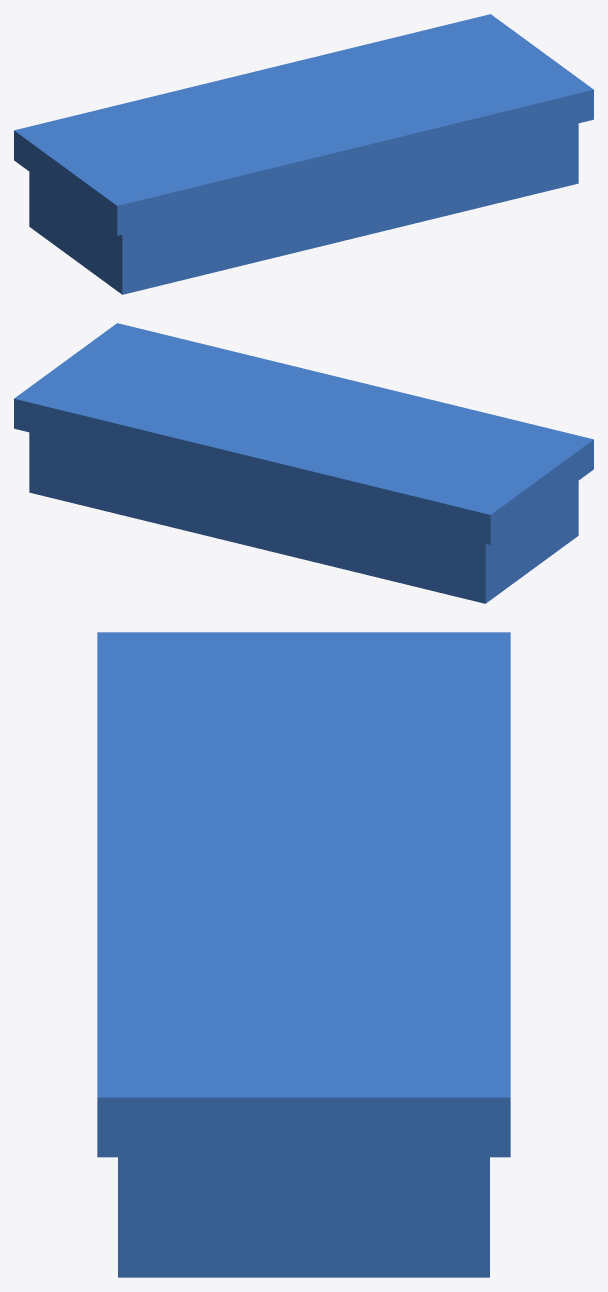
Rendered from yamebox.fbx.
3 renders of one model, top to bottom at view 1: azimuth 30°, elevation 25°; view 2: azimuth 150°, elevation 25°; view 3: azimuth 270°, elevation 25°, orthographic. The views are drawn at different scales.
Parts seen in each view (by area): view 1: 개체_2, 개체_1; view 2: 개체_2, 개체_1; view 3: 개체_1, 개체_2.
Part boxes in pixels (box(x1,y1,x2,y2)): 개체_2: box(29, 21, 578, 294); 개체_1: box(14, 14, 593, 235); 개체_2: box(29, 330, 578, 603); 개체_1: box(14, 323, 593, 544); 개체_1: box(97, 632, 510, 1157); 개체_2: box(118, 642, 489, 1277).
Bounding box in the file's own units: 151 × 56.54 × 28.74.
